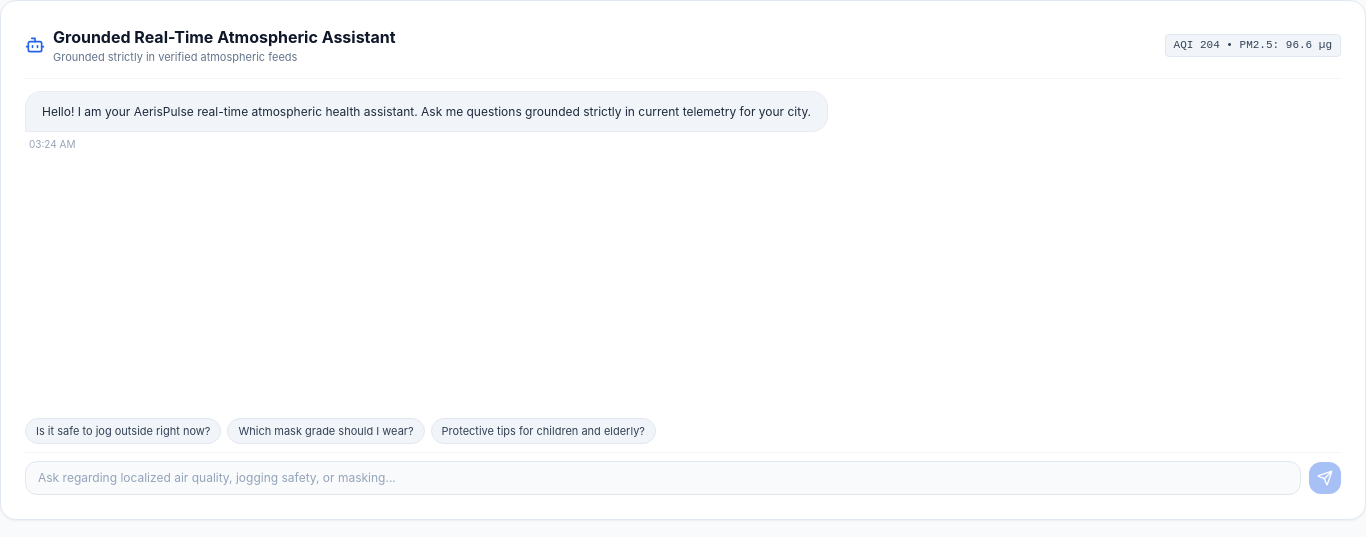
Test: StreamingChat Component Unit Suite › reassembles an SSE event split across network chunks
Step 1. Click the button "Is it safe to jog outside right now?" → (123, 431), box [25,418,221,444]
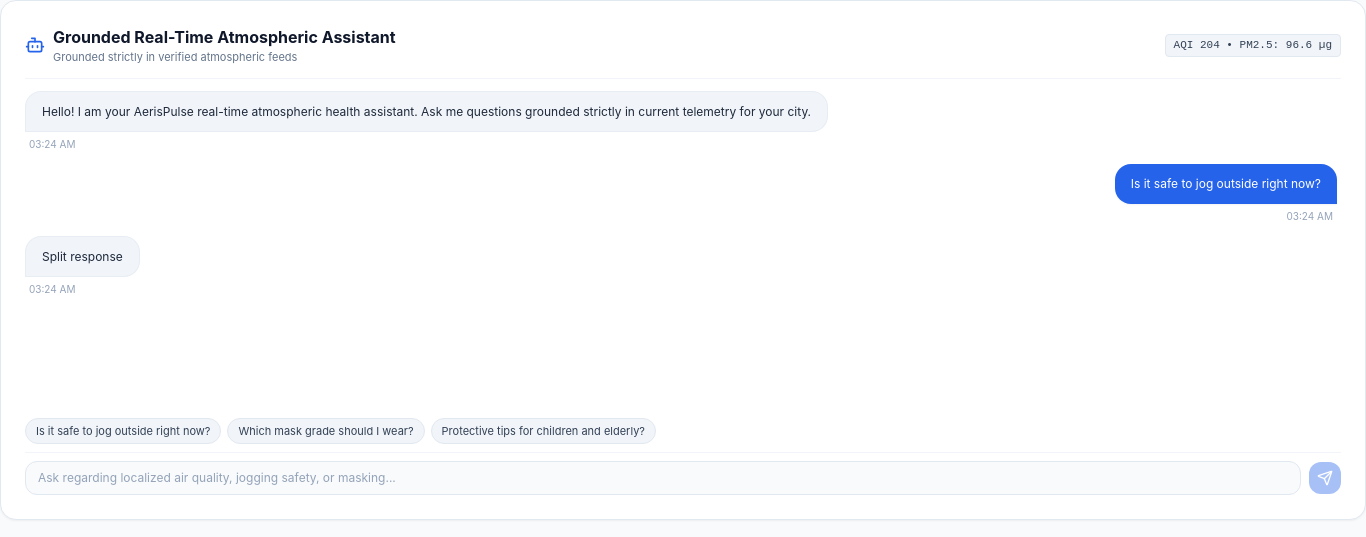
Check: the text "Split response" is shown, box [42,246,123,266]
